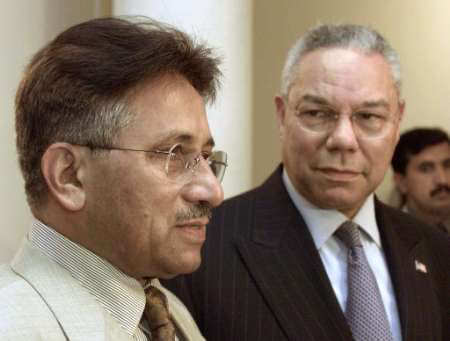Face: (121, 77, 231, 289), (280, 59, 395, 210), (412, 144, 449, 214)
